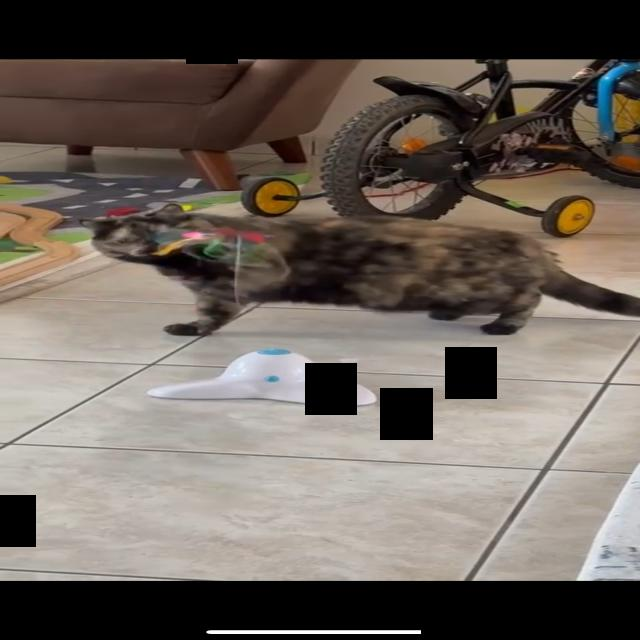authorized: (78, 202, 639, 337)
